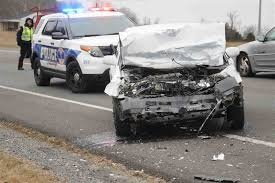Smashed: (114, 54, 236, 125)
